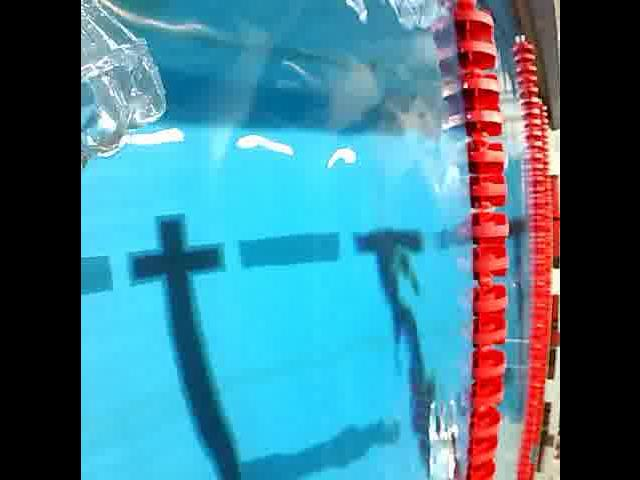Bottle: (80, 0, 176, 173)
